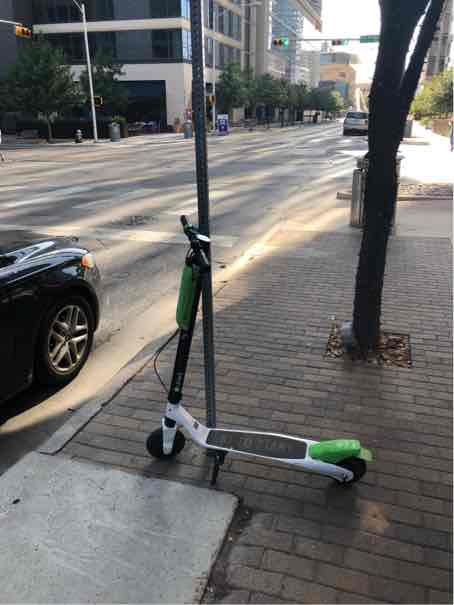scooter: (135, 207, 383, 489)
